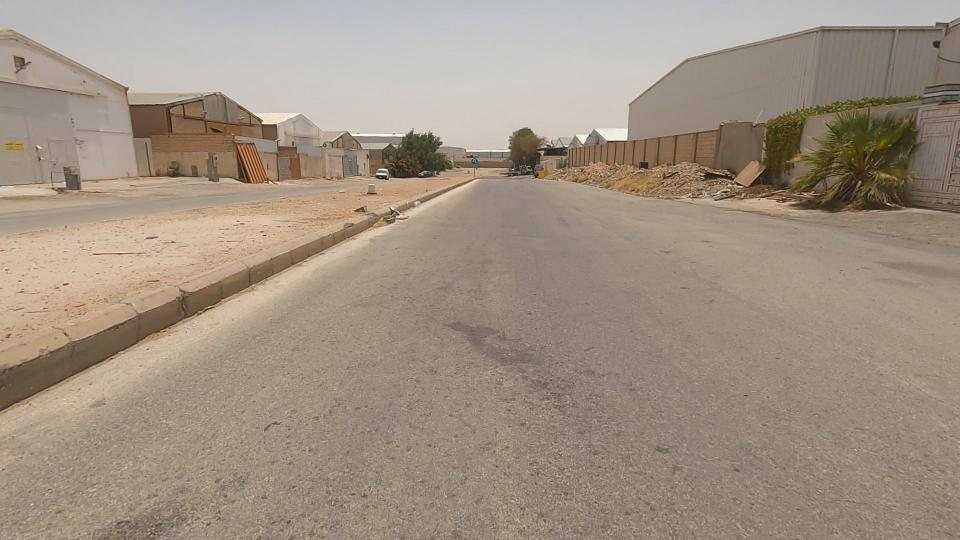CLUTTER_SIDEWALK: (0, 171, 440, 370), (253, 167, 479, 227)
GARBAGE: (715, 136, 785, 212), (356, 191, 428, 243), (336, 189, 394, 242)
SAND_ON_ROAD: (608, 135, 747, 234), (529, 133, 672, 217)
